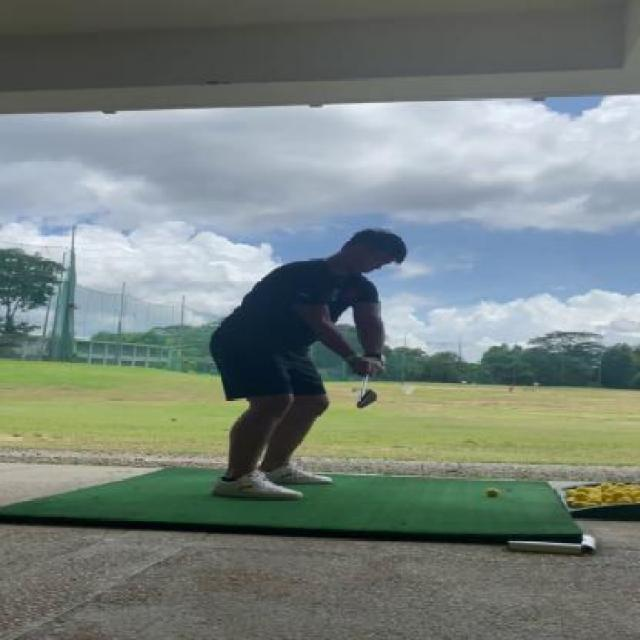club head: (353, 382, 381, 413)
